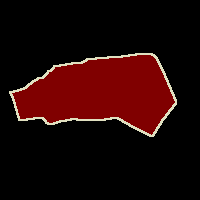tie: (10, 54, 176, 136)
